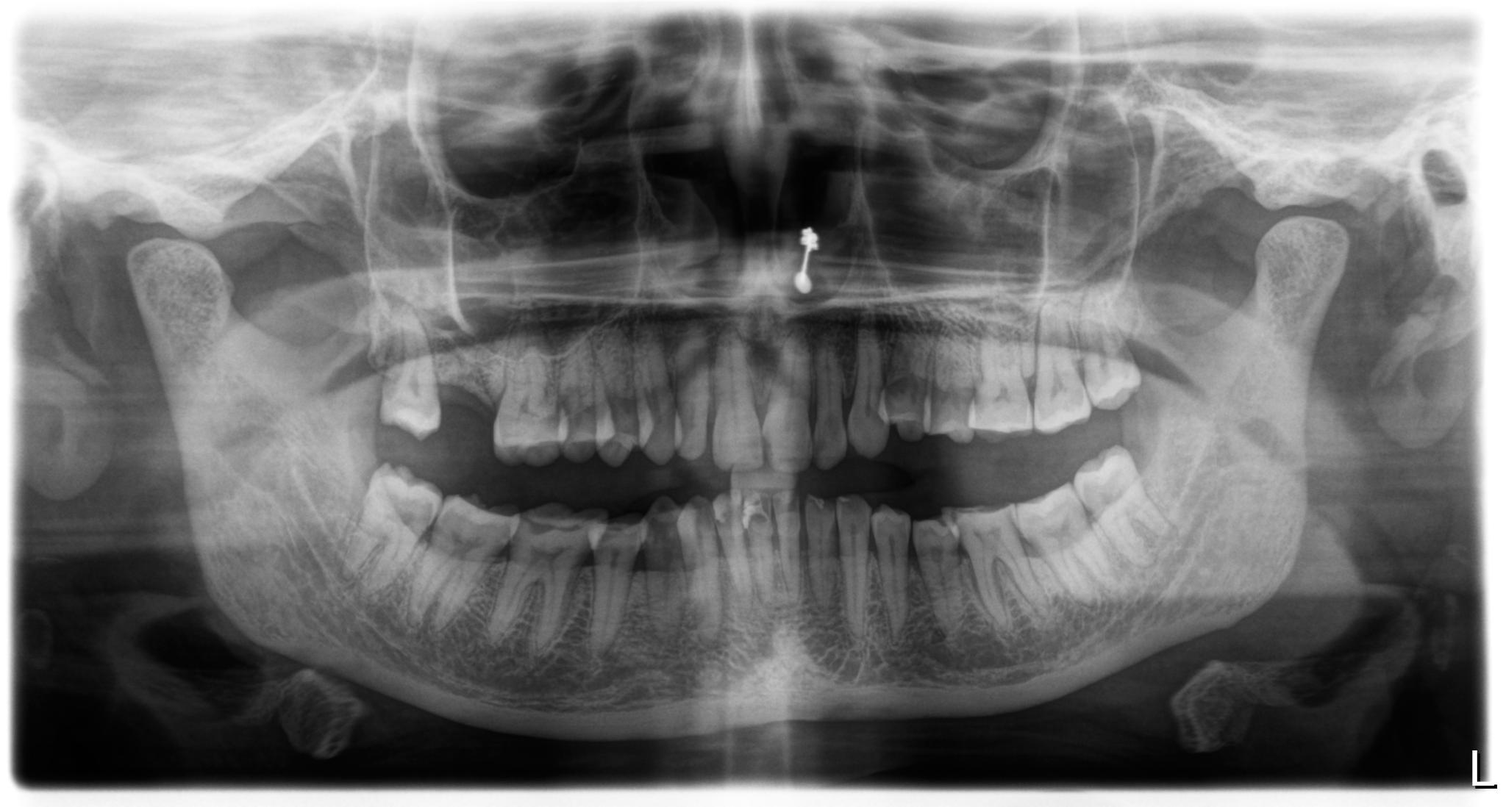Dental Caries: (710, 492, 780, 536)
Impacted Third Molar: (1081, 469, 1185, 555), (352, 476, 430, 579)
Missing Tooth: (436, 351, 499, 442)
